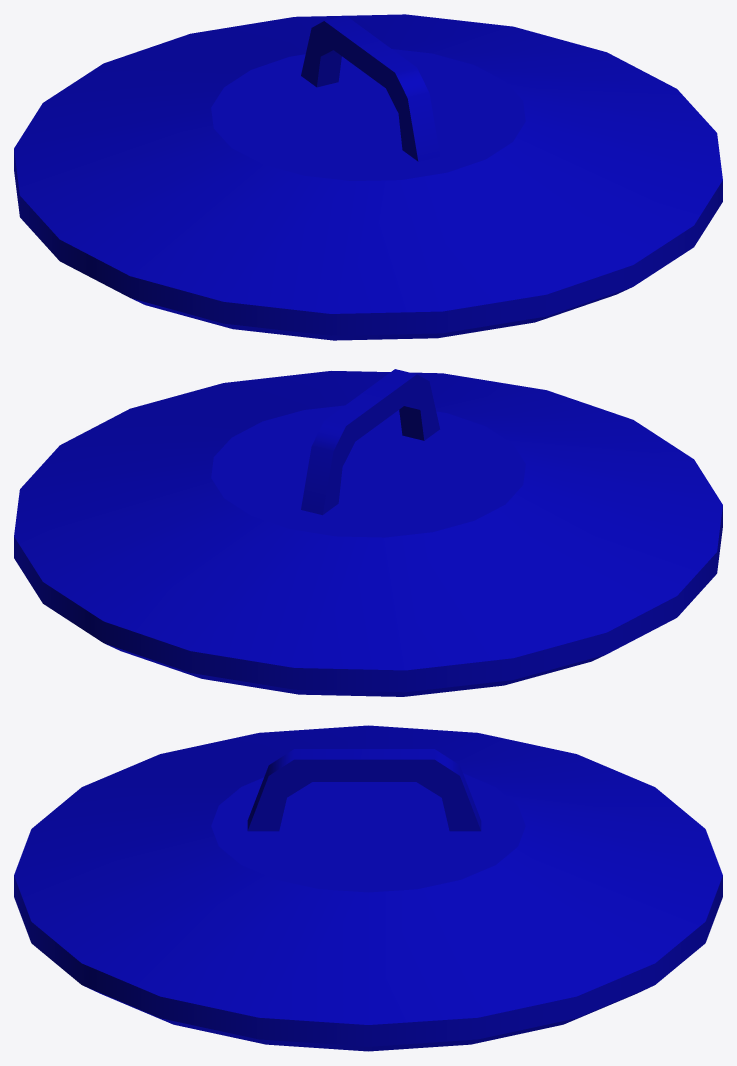
The model's file is mesh_BinLid_v1.fbx.
3 renders of one model, top to bottom at view 1: azimuth 30°, elevation 25°; view 2: azimuth 150°, elevation 25°; view 3: azimuth 270°, elevation 25°, orthographic.
Parts seen in each view (by area): view 1: mesh_BinLid_v1_0; view 2: mesh_BinLid_v1_0; view 3: mesh_BinLid_v1_0.
Boxes of the visible parts, x1,y1,x2,y2 form: mesh_BinLid_v1_0: (14,14,722,340); mesh_BinLid_v1_0: (14,369,722,696); mesh_BinLid_v1_0: (14,725,722,1051).
Bounding box in the file's own units: 53.17 × 12.98 × 53.17.
